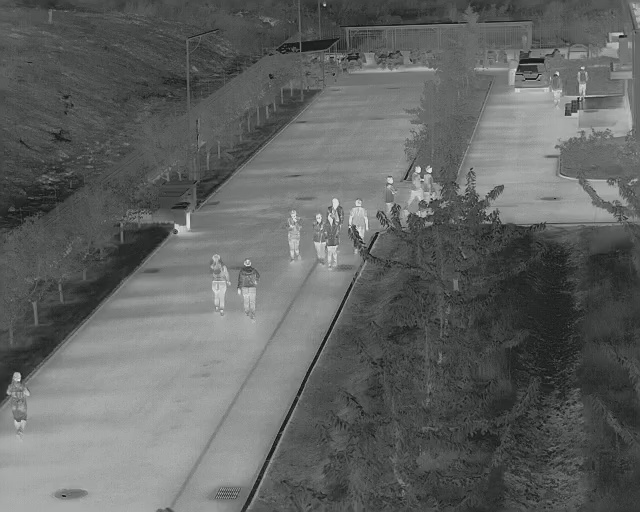person: (237, 256, 263, 325), (7, 372, 31, 438), (207, 253, 230, 314), (285, 207, 306, 265), (349, 197, 371, 239), (311, 213, 328, 264), (326, 213, 342, 267), (408, 165, 425, 205), (380, 174, 399, 207), (552, 70, 566, 109), (577, 66, 591, 98), (423, 165, 435, 198)
vehicle: (513, 56, 550, 95)
